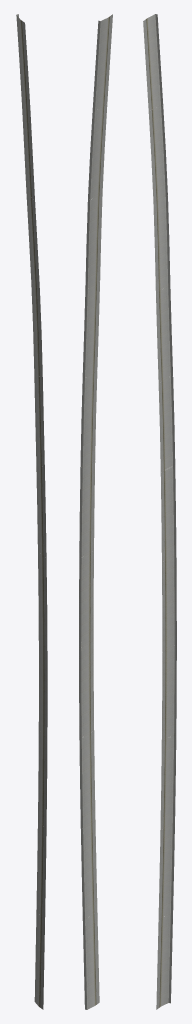
Rendered from _1WALL_03_EMIRATES_001_SUB1_Scene.262.obj.
3 views of the same model, side by side, from view 1: azimuth 30°, elevation 25°; view 2: azimuth 150°, elevation 25°; view 3: azimuth 330°, elevation 25° (orthographic).
Visible parts, largest first — view 1: _1WALL_03_EMIRATES_001_SUB1_Scene.262; view 2: _1WALL_03_EMIRATES_001_SUB1_Scene.262; view 3: _1WALL_03_EMIRATES_001_SUB1_Scene.262.
Part boxes in pixels (<box>): _1WALL_03_EMIRATES_001_SUB1_Scene.262: <box>16,14,47,1009</box>; _1WALL_03_EMIRATES_001_SUB1_Scene.262: <box>79,14,112,1009</box>; _1WALL_03_EMIRATES_001_SUB1_Scene.262: <box>143,14,176,1009</box>.
Bounding box in the file's own units: 2.34 × 88.07 × 2.14.
